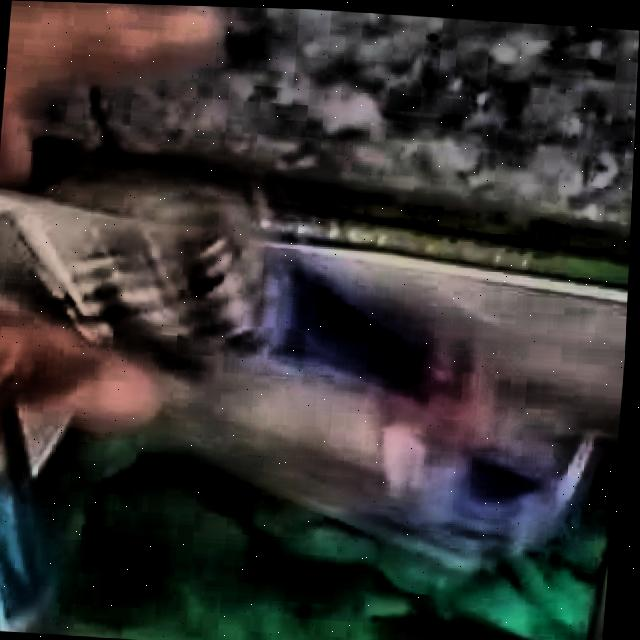metal: (0, 164, 597, 576)
